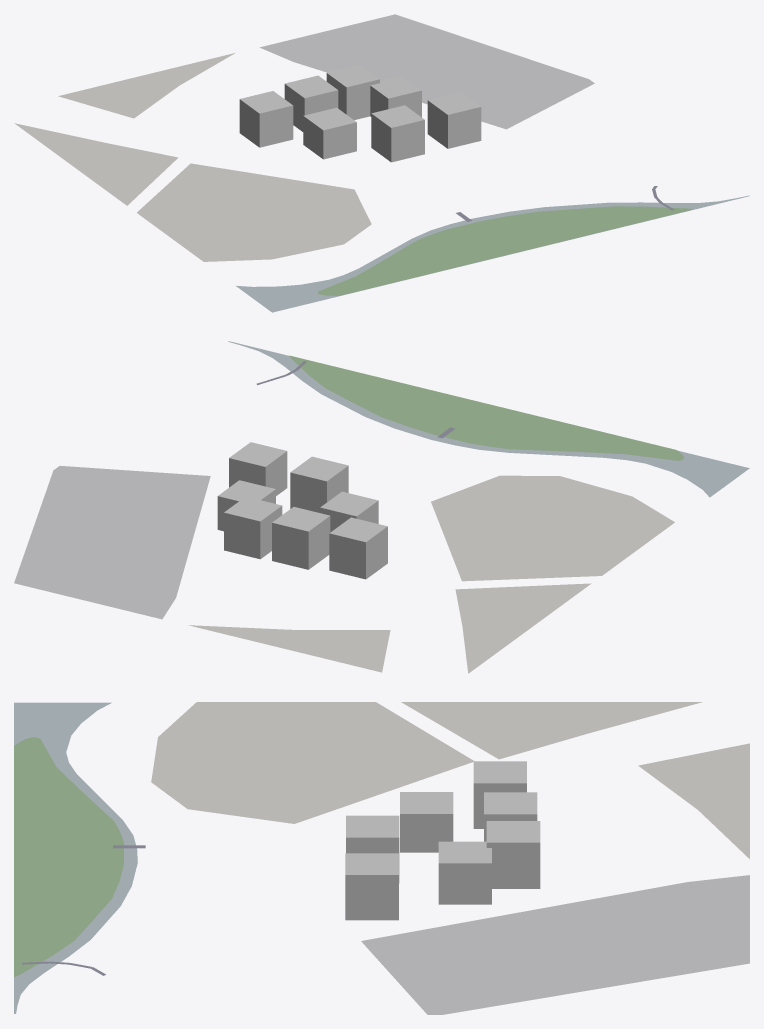
Rendered from 121_73_mid.glb.
The picture shows the model from 3 angles, top to bottom: view 1: azimuth 30°, elevation 25°; view 2: azimuth 150°, elevation 25°; view 3: azimuth 270°, elevation 25°; orthographic projection. The views are drawn at different scales.
Bounding box in the file's own units: 500 × 35.43 × 500.
